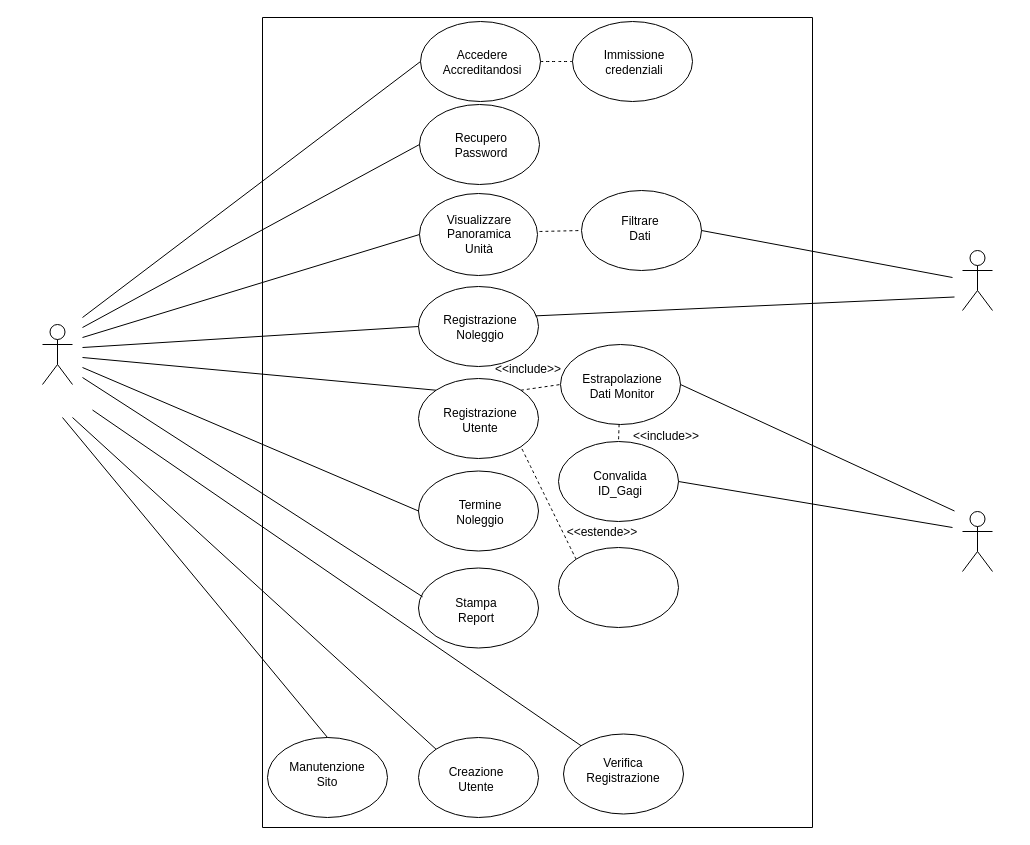
Image size: 1030x845. Some labels were removed from this diagram. Here are the shapes that lost their labels. From the top down, the centre of each, then its label:
point (977, 280): Database ER
point (57, 354): Amministratore
point (977, 541): Monitor
point (618, 587): Esporta Word Utente
